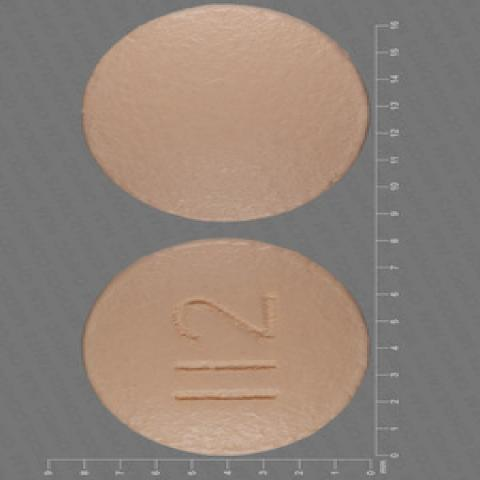Pill: (57, 230, 399, 468), (59, 4, 389, 228)
